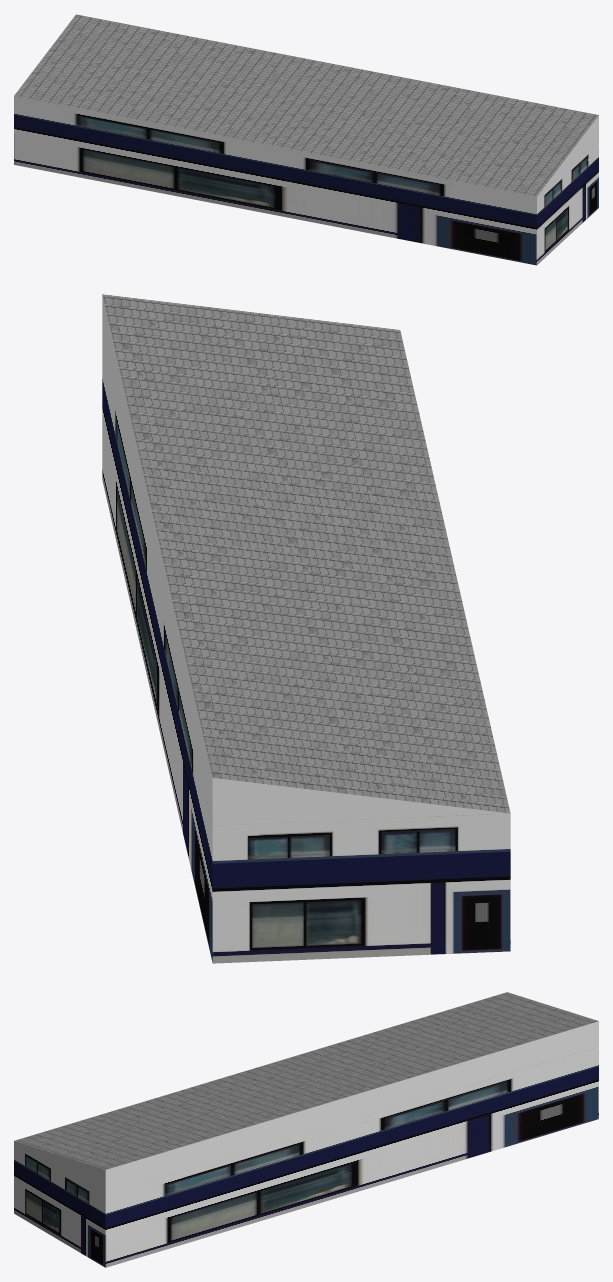
The picture shows the model from 3 angles, top to bottom: view 1: azimuth 30°, elevation 25°; view 2: azimuth 150°, elevation 25°; view 3: azimuth 270°, elevation 25°; orthographic projection. The views are drawn at different scales.
Visible parts, largest first — view 1: CityEngineMaterial_4_m, CityEngineMaterial_2_m, CityEngineMaterial_3_m; view 2: CityEngineMaterial_4_m, CityEngineMaterial_2_m, CityEngineMaterial_3_m; view 3: CityEngineMaterial_2_m, CityEngineMaterial_4_m, CityEngineMaterial_3_m.
Part boxes in pixels (x1,y1,x2,y2): CityEngineMaterial_4_m: (14, 14, 598, 196); CityEngineMaterial_2_m: (14, 96, 598, 265); CityEngineMaterial_3_m: (538, 115, 598, 194); CityEngineMaterial_4_m: (102, 294, 510, 813); CityEngineMaterial_2_m: (102, 343, 510, 963); CityEngineMaterial_3_m: (102, 295, 509, 825); CityEngineMaterial_2_m: (14, 1046, 598, 1267); CityEngineMaterial_4_m: (14, 992, 598, 1169); CityEngineMaterial_3_m: (15, 1021, 598, 1194).
Size of the model in its own units: 42.75 by 9.62 by 52.06.
